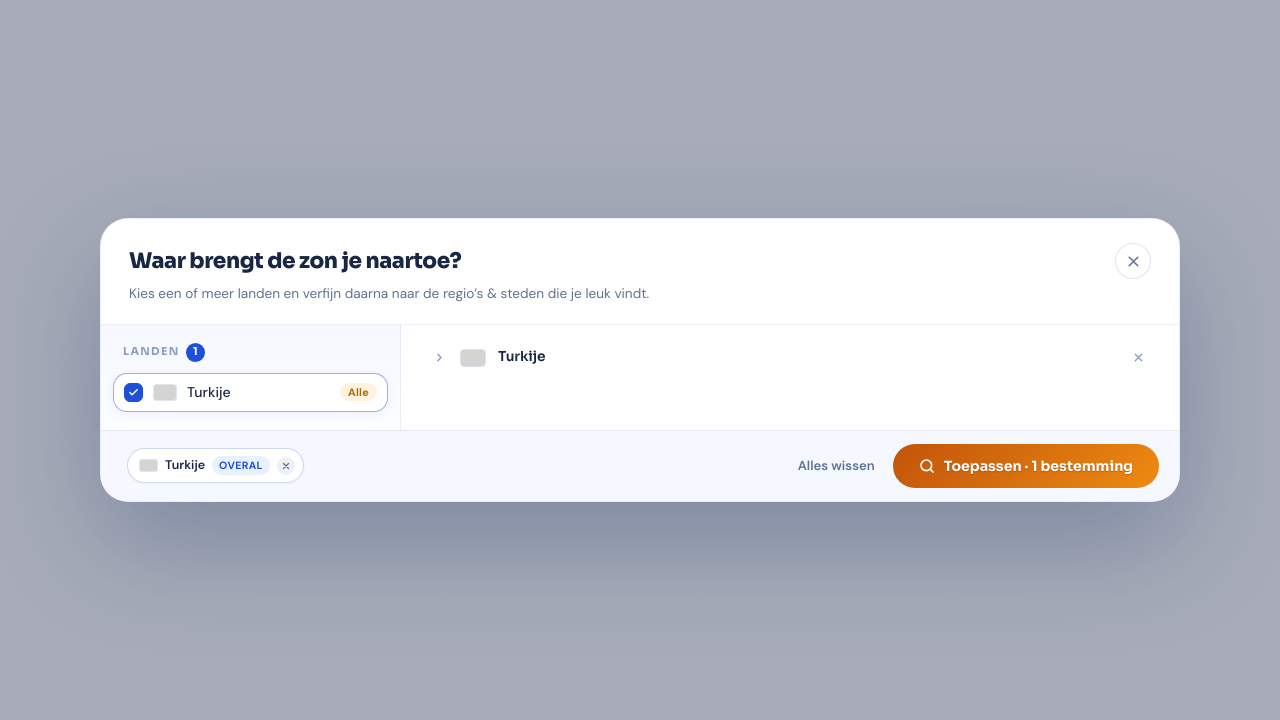
Test: destinations the chosen airport cannot reach › greys the unreachable one and leaves the rest alone
This screenshot has width=1280, height=720.
Click the button "Turkije" at (522, 357), box [418,338,1162,378]
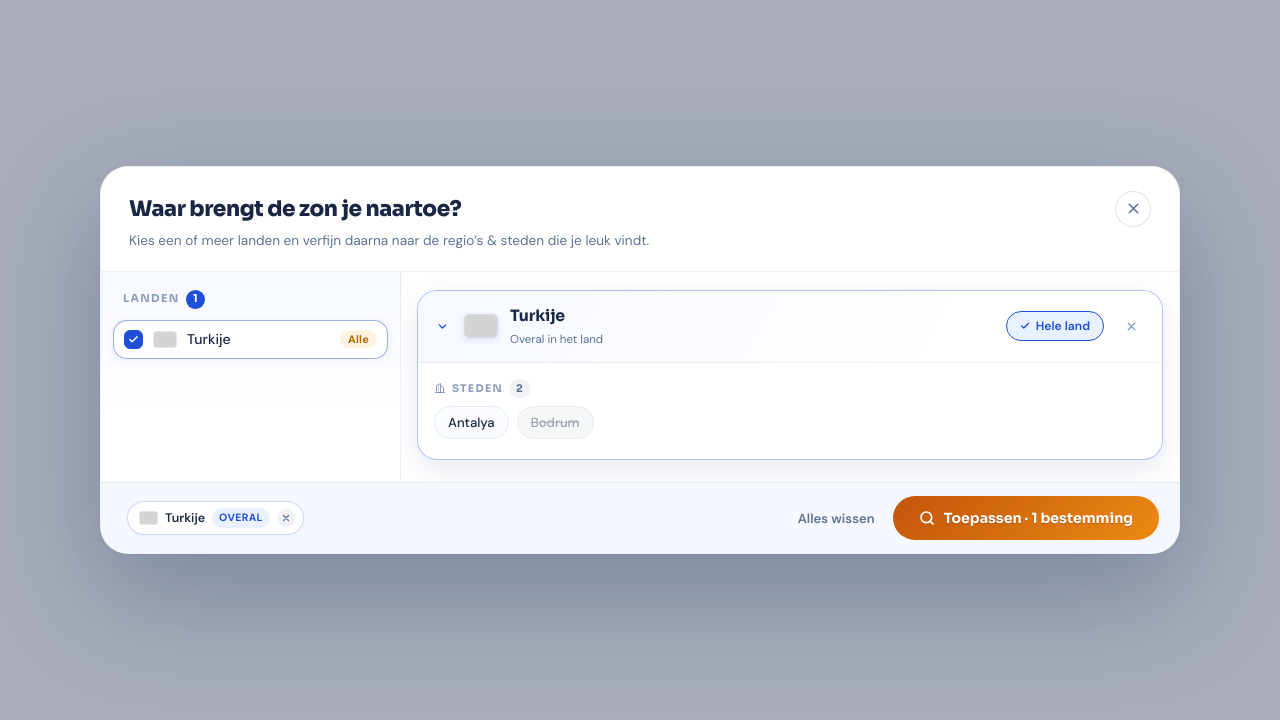
Now the button "Bodrum" is disabled, box [517,406,594,439]
